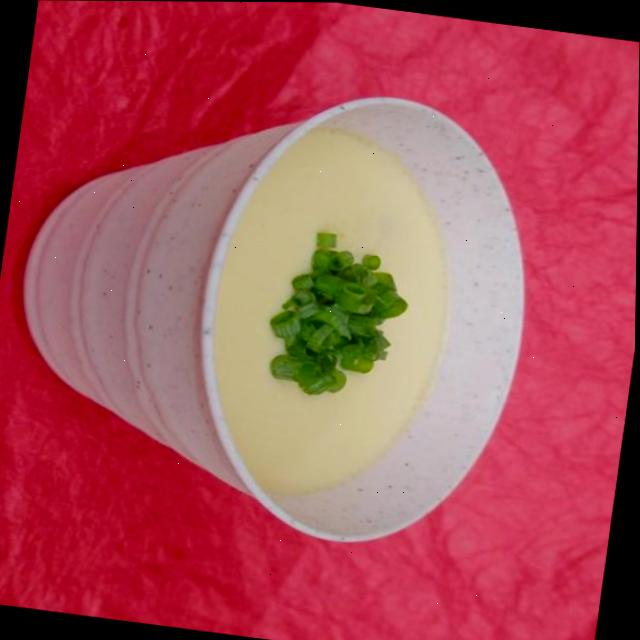鸡蛋料理: (0, 70, 575, 551)
